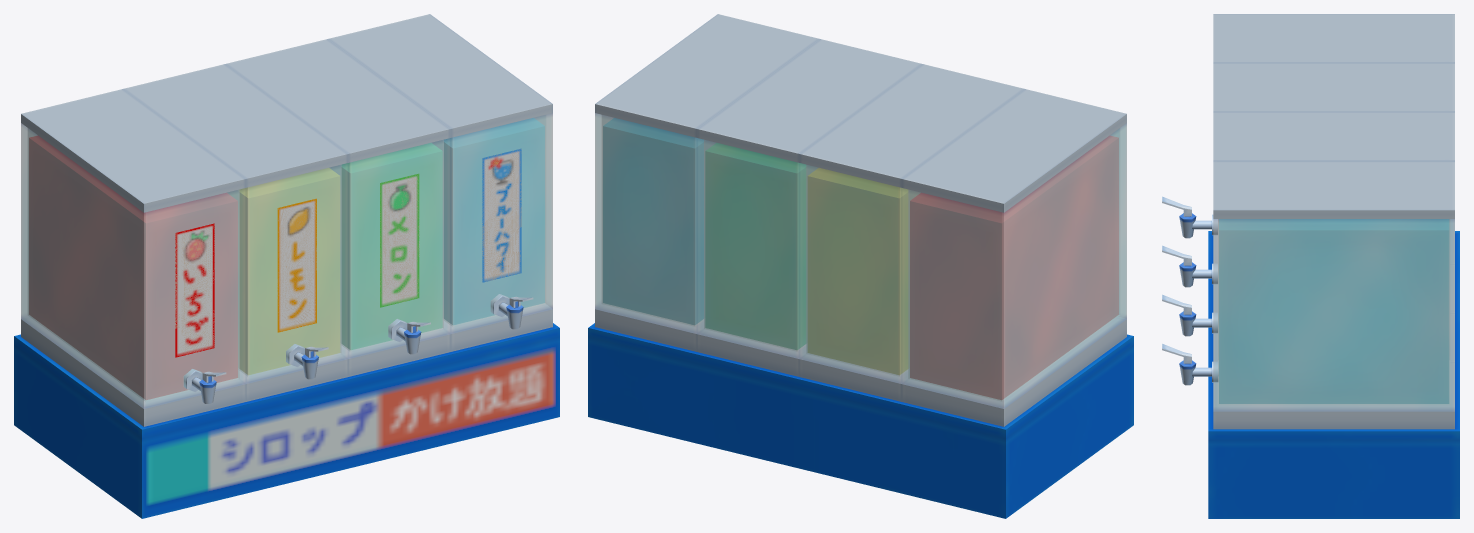
File: jsf_SyrupCaseDispenser_01.fbx
3 views of the same model, side by side, from view 1: azimuth 30°, elevation 25°; view 2: azimuth 150°, elevation 25°; view 3: azimuth 270°, elevation 25° (orthographic).
Visible parts, largest first — view 1: Body, Window, Syrup_Strawberry, Syrup_Melon, Syrup_BlueHawaii, Syrup_Lemon; view 2: Body, Window, Syrup_Strawberry, Syrup_BlueHawaii, Syrup_Melon, Syrup_Lemon; view 3: Body, Window, Syrup_BlueHawaii.
Part boxes in pixels (<box>): Body: <box>14,14,559,518</box>; Window: <box>21,113,552,408</box>; Syrup_Strawberry: <box>29,136,237,399</box>; Syrup_Melon: <box>342,143,442,349</box>; Syrup_BlueHawaii: <box>444,118,544,324</box>; Syrup_Lemon: <box>240,168,339,374</box>; Body: <box>588,14,1133,518</box>; Window: <box>595,113,1126,408</box>; Syrup_Strawberry: <box>910,136,1118,399</box>; Syrup_BlueHawaii: <box>603,118,703,324</box>; Syrup_Melon: <box>705,143,805,349</box>; Syrup_Lemon: <box>808,168,907,374</box>; Body: <box>1179,14,1459,518</box>; Window: <box>1213,219,1454,411</box>; Syrup_BlueHawaii: <box>1219,219,1448,403</box>.
Size of the model in its own units: 49 by 35 by 30.79.
